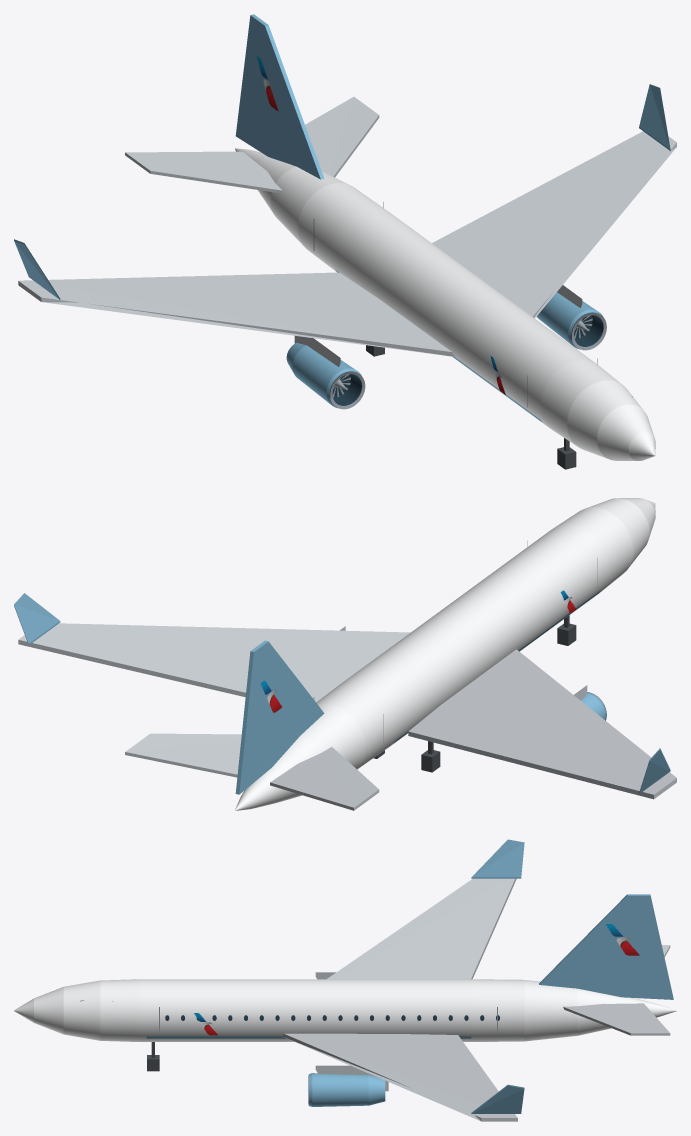
The model's file is b737-AAL-v3.gltf.
3 views of the same model, one above another, from view 1: azimuth 30°, elevation 25°; view 2: azimuth 150°, elevation 25°; view 3: azimuth 270°, elevation 25° (orthographic). The views are drawn at different scales.
Visible parts, largest first — view 1: object 1; view 2: object 1, Gear; view 3: object 1.
Part boxes in pixels (bbox=[...]): object 1: bbox=[14, 14, 676, 460]; object 1: bbox=[14, 498, 676, 810]; Gear: bbox=[373, 615, 576, 772]; object 1: bbox=[14, 839, 676, 1121].
Size of the model in its own units: 35 by 11.6 by 40.
8 materials, 1 textured.
